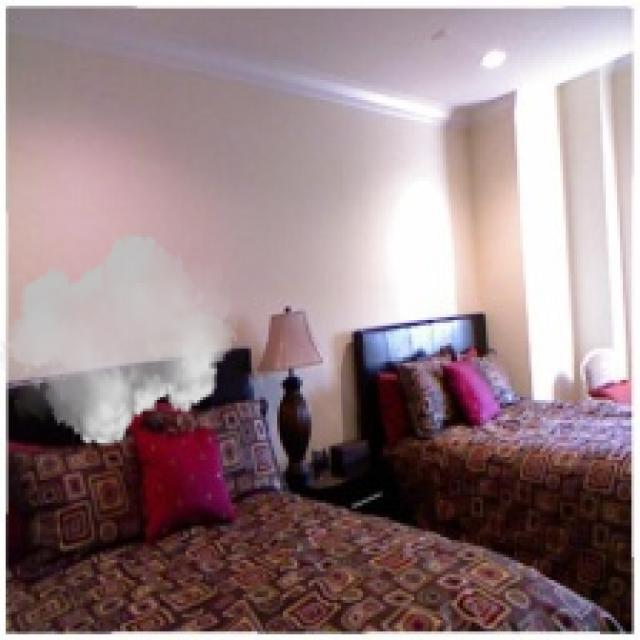smoke: (0, 226, 237, 454)
